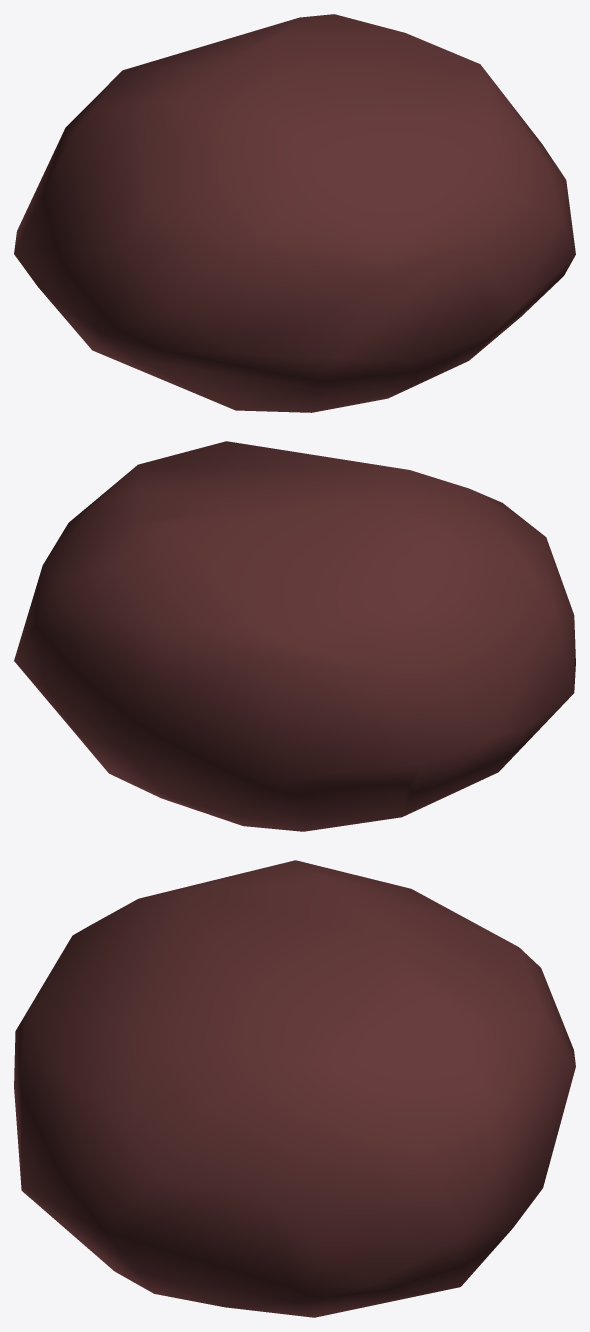
File: SM_rock_rounded_01.fbx
3 renders of one model, top to bottom at view 1: azimuth 30°, elevation 25°; view 2: azimuth 150°, elevation 25°; view 3: azimuth 270°, elevation 25°, orthographic. The views are drawn at different scales.
Visible parts, largest first — view 1: rock_rounded_01; view 2: rock_rounded_01; view 3: rock_rounded_01.
Part boxes in pixels (x1=…): rock_rounded_01: x1=14, y1=14, x2=575, y2=412; rock_rounded_01: x1=14, y1=441, x2=575, y2=831; rock_rounded_01: x1=14, y1=860, x2=575, y2=1317.
Bounding box in the file's own units: 73.93 × 46.67 × 66.25.
